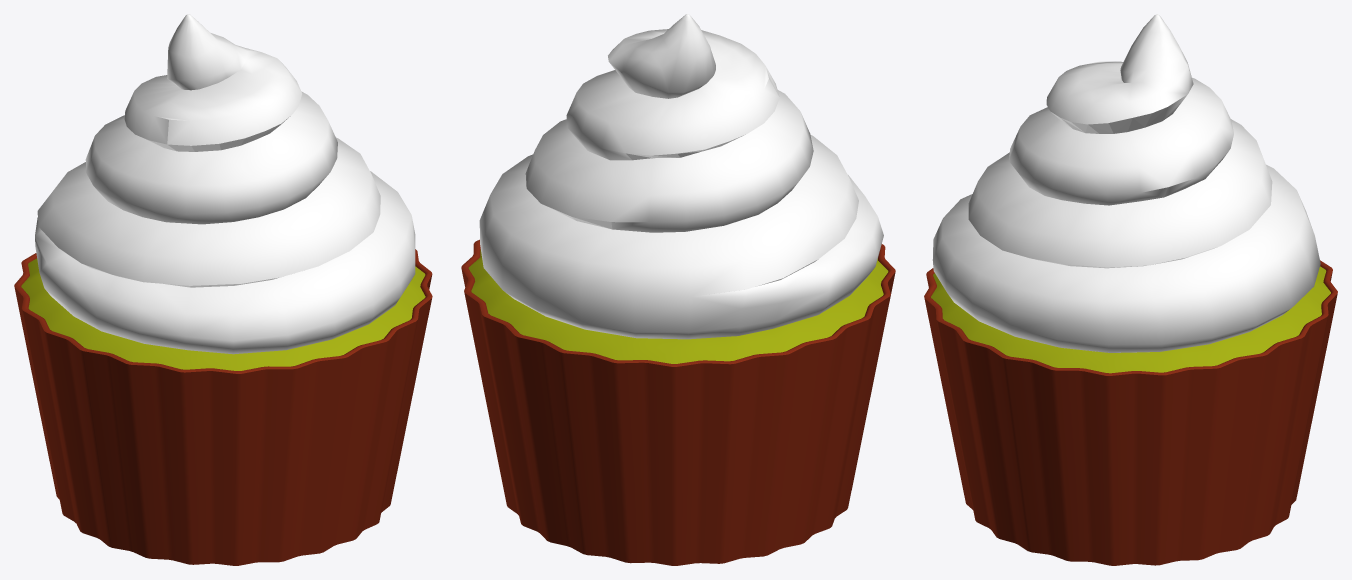
3 views of the same model, side by side, from view 1: azimuth 30°, elevation 25°; view 2: azimuth 150°, elevation 25°; view 3: azimuth 270°, elevation 25° (orthographic). The views are drawn at different scales.
Parts seen in each view (by area): view 1: Icing, Wrapper, Cake; view 2: Icing, Wrapper, Cake; view 3: Icing, Wrapper, Cake.
Part boxes in pixels (left/top/right/bottom): Icing: left=35, top=14, right=415, bottom=354; Wrapper: left=14, top=249, right=432, bottom=565; Cake: left=21, top=258, right=425, bottom=370; Icing: left=479, top=14, right=883, bottom=339; Wrapper: left=461, top=239, right=895, bottom=565; Cake: left=468, top=249, right=888, bottom=363; Icing: left=932, top=14, right=1320, bottom=352; Wrapper: left=924, top=260, right=1337, bottom=565; Cake: left=931, top=266, right=1330, bottom=373.
Size of the model in its own units: 21.37 by 21.39 by 26.87.
